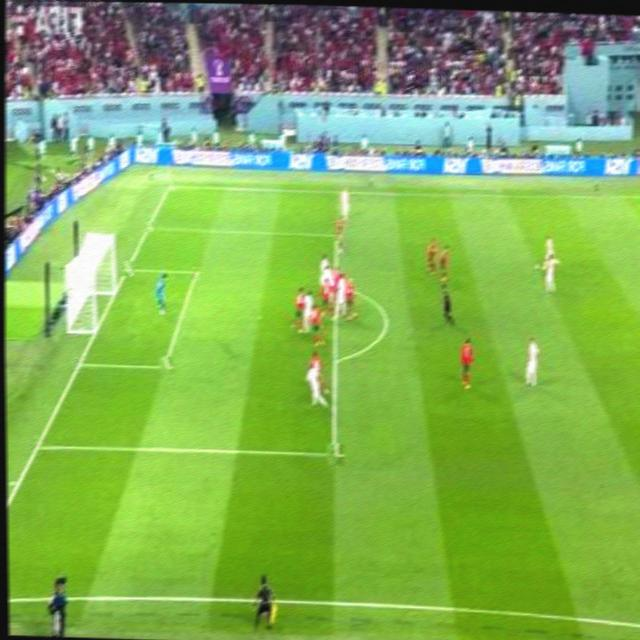bigarea_bottom_inner: (325, 443, 344, 465)
bigarea_bottom_outter: (31, 435, 45, 455)
bigarea_top_inner: (334, 231, 341, 240)
bigarea_top_outter: (145, 221, 152, 231)
bottom_arc_area_intersection: (330, 351, 341, 365)
corner: (167, 182, 174, 191)
smallarea_bottom_inner: (159, 355, 173, 373)
smallarea_bottom_outter: (72, 353, 87, 371)
smallarea_top_inner: (191, 265, 201, 279)
smallarea_top_outter: (122, 260, 134, 275)
